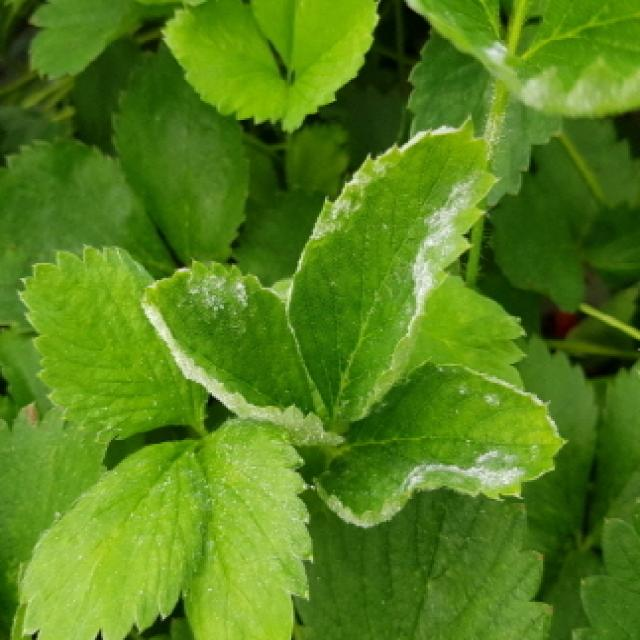Powdery Mildew Leaf: (284, 112, 506, 430), (313, 360, 570, 532), (19, 439, 209, 640), (142, 259, 340, 449), (183, 416, 315, 640), (480, 0, 640, 117), (402, 0, 506, 61)
